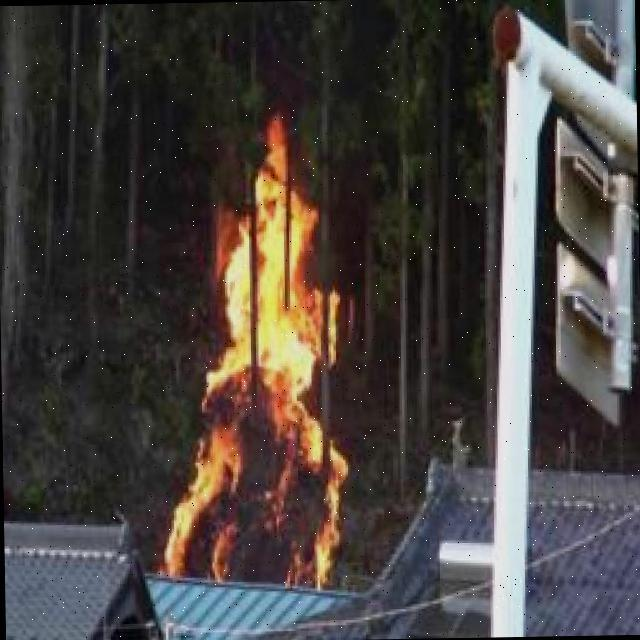Fire: (155, 114, 360, 581)
